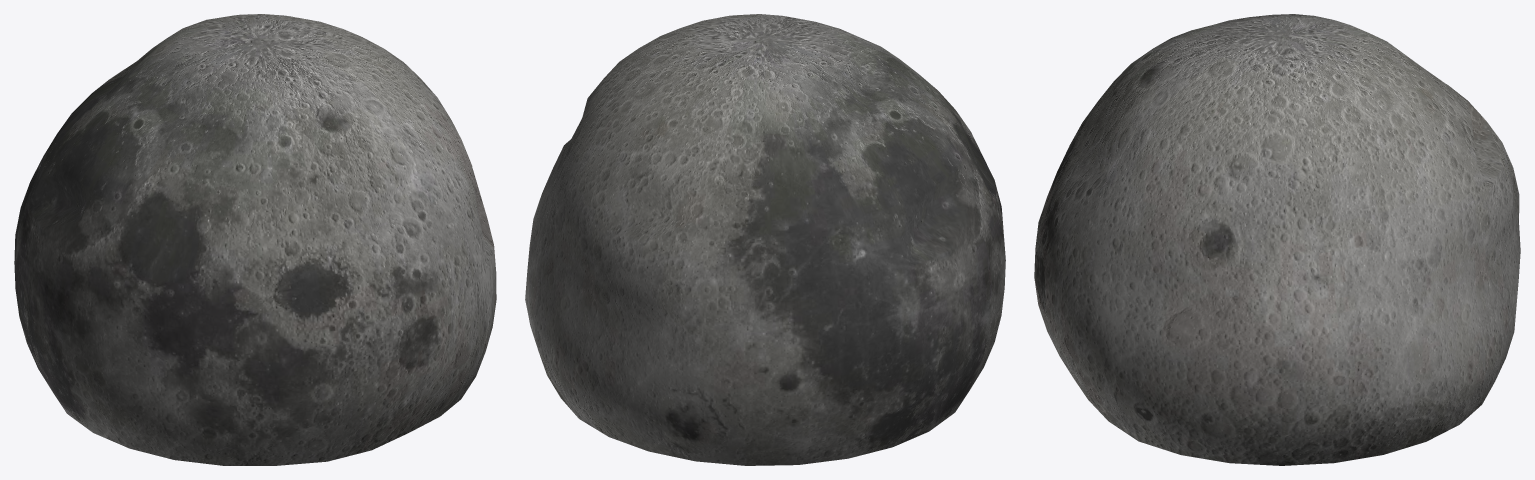
File: moon_01.fbx
3 renders of one model, left to right at view 1: azimuth 30°, elevation 25°; view 2: azimuth 150°, elevation 25°; view 3: azimuth 270°, elevation 25°, orthographic.
Visible parts, largest first — view 1: pSphere1; view 2: pSphere1; view 3: pSphere1.
Part boxes in pixels (x1,y1,x2,y2): pSphere1: (14, 14, 496, 465); pSphere1: (525, 14, 1005, 465); pSphere1: (1034, 14, 1520, 465).
Bounding box in the file's own units: 17.11 × 13.07 × 16.83.
